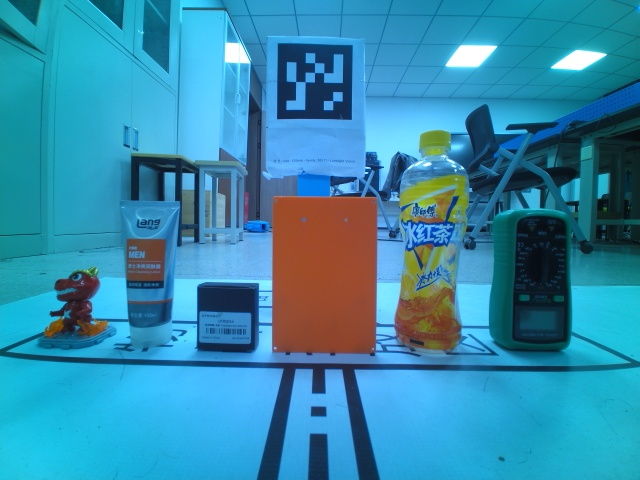banzi: (195, 281, 261, 353)
binghongcha: (37, 265, 116, 350)
dabao: (119, 200, 181, 347)
dianbiao: (393, 130, 470, 356)
hezi: (489, 208, 573, 354)
long: (271, 196, 377, 354)
